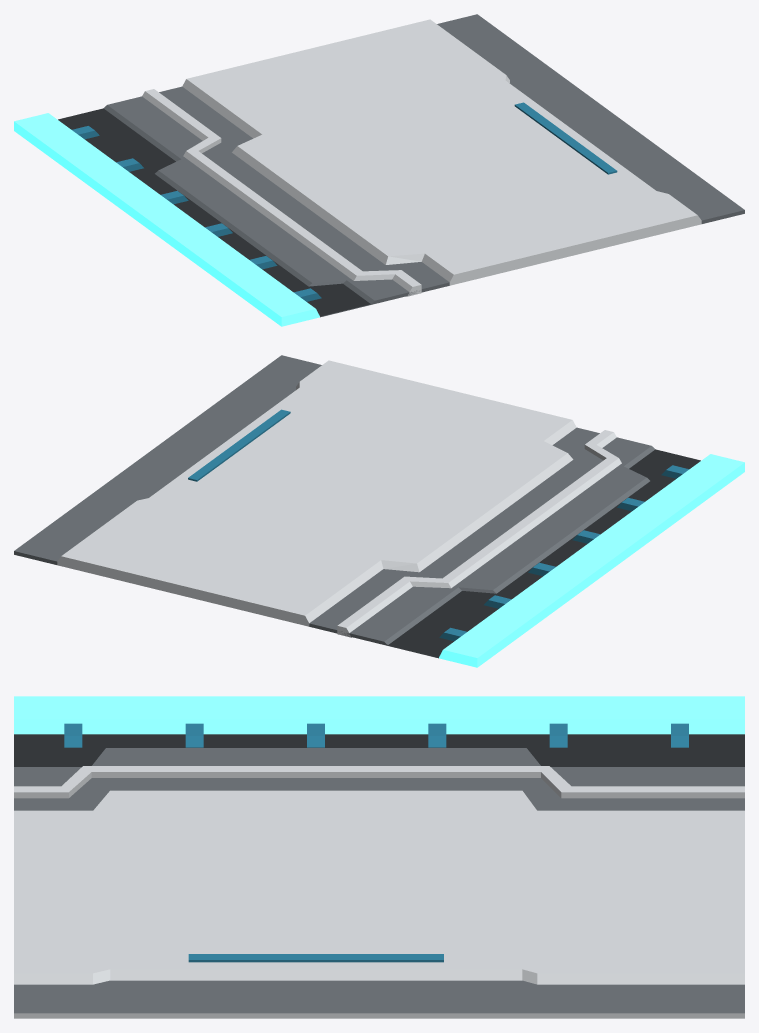
File: floor_side-Be99Aw5Y.glb
3 renders of one model, top to bottom at view 1: azimuth 30°, elevation 25°; view 2: azimuth 150°, elevation 25°; view 3: azimuth 270°, elevation 25°, orthographic. The views are drawn at different scales.
Parts seen in each view (by area): view 1: FloorTile_Side; view 2: FloorTile_Side; view 3: FloorTile_Side.
Part boxes in pixels (x1,y1,x2,y2): FloorTile_Side: [14, 14, 744, 326]; FloorTile_Side: [14, 355, 744, 667]; FloorTile_Side: [14, 696, 744, 1018].
Size of the model in its own units: 2 by 0.0685 by 2.
